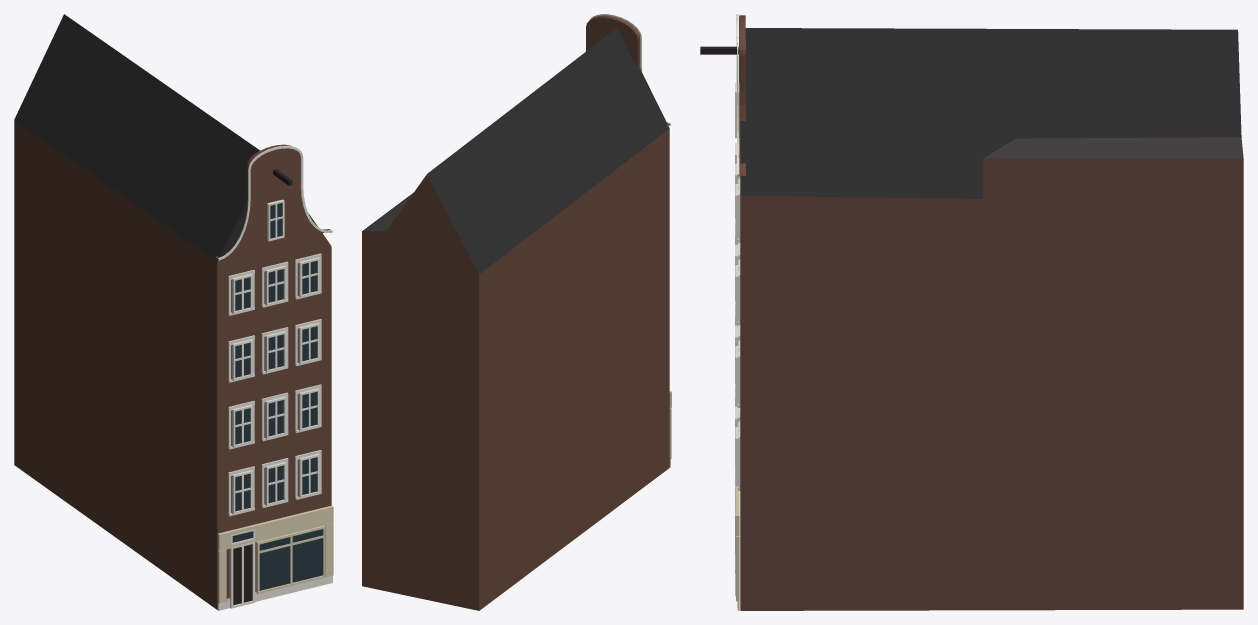
3 renders of one model, left to right at view 1: azimuth 30°, elevation 25°; view 2: azimuth 150°, elevation 25°; view 3: azimuth 270°, elevation 25°, orthographic. The views are drawn at different scales.
Visible parts, largest first — view 1: spec-0363100012171644; view 2: spec-0363100012171644; view 3: spec-0363100012171644.
Part boxes in pixels (left/top/right/bottom): spec-0363100012171644: left=14, top=14, right=333, bottom=610; spec-0363100012171644: left=362, top=14, right=671, bottom=610; spec-0363100012171644: left=700, top=14, right=1243, bottom=610.
Size of the model in its own units: 4.7 by 17.04 by 15.08.
